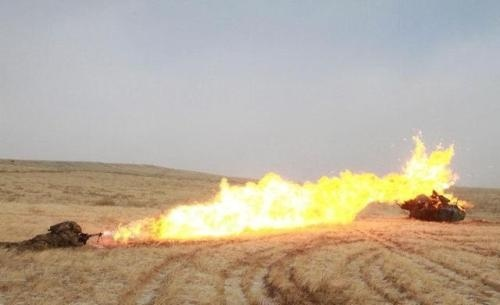fire: (110, 156, 464, 235)
